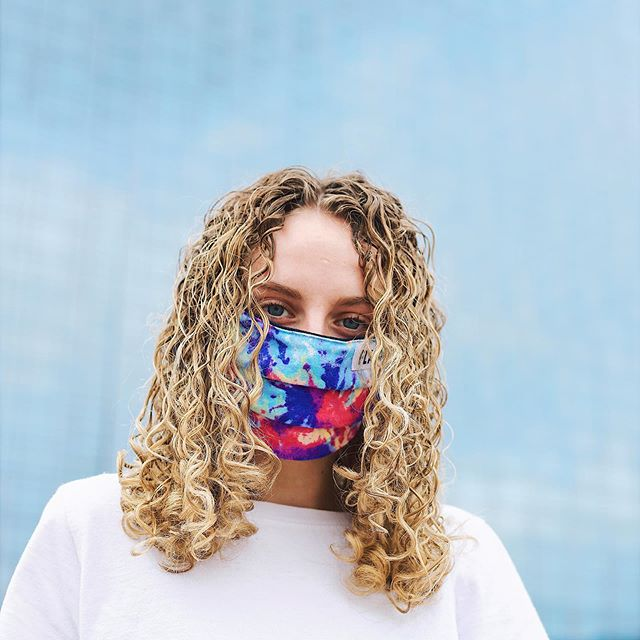homemade: (208, 327, 389, 470)
